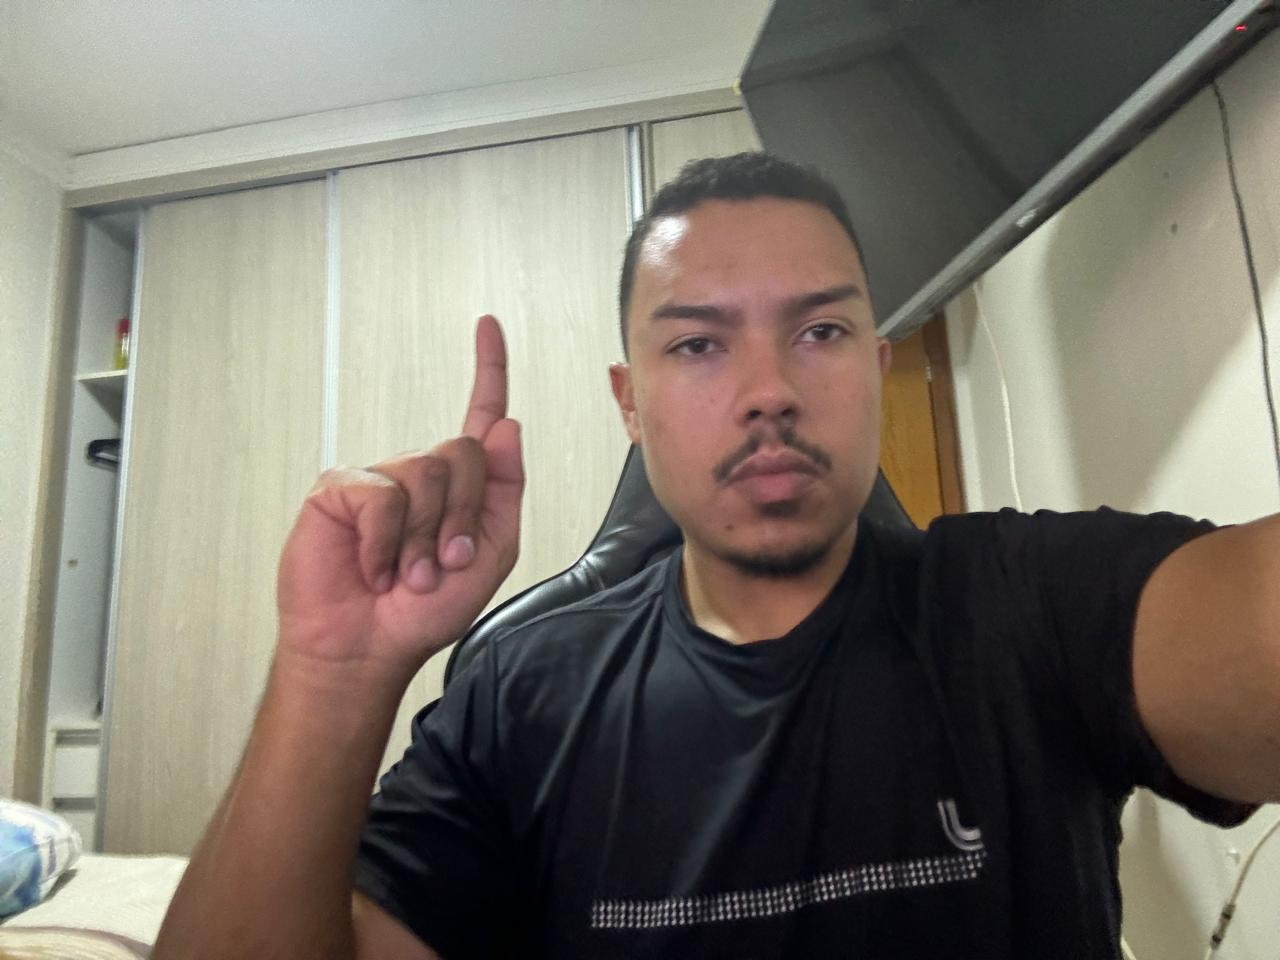g: (265, 311, 530, 671)
